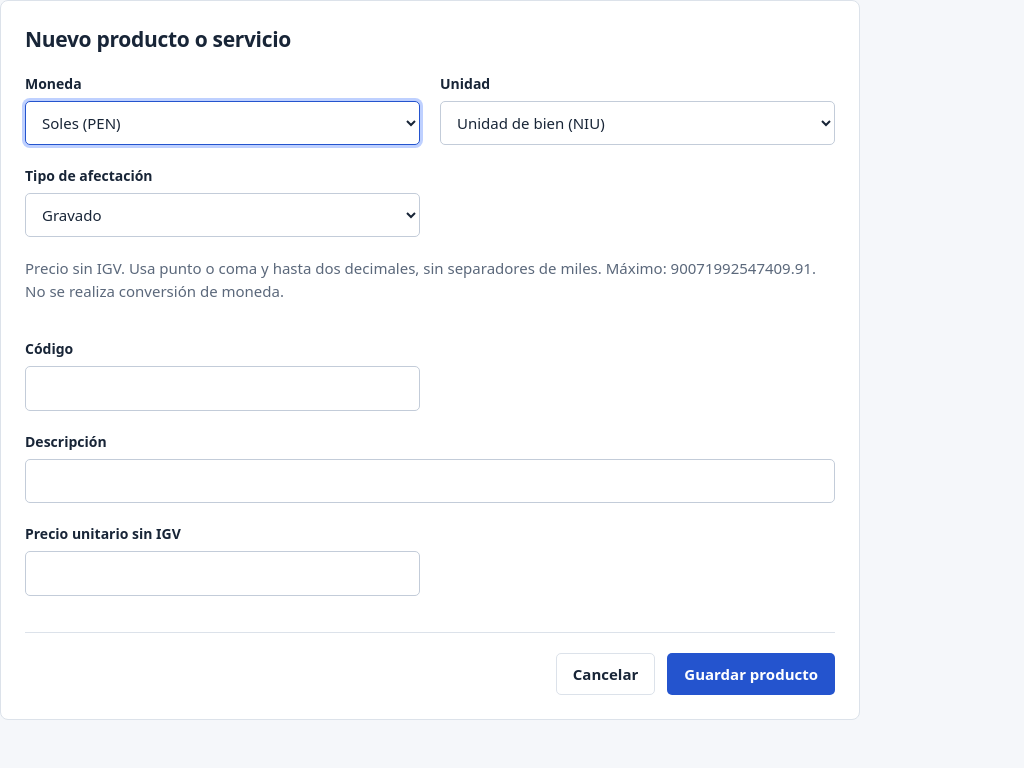
it: formulario de productos › muestra errores por campo y conserva los valores
The width and height of the screenshot is (1024, 768).
In the field labelled "Precio unitario sin IGV": (222,574) top-left (25, 551), bottom-right (420, 596), type "10,50"
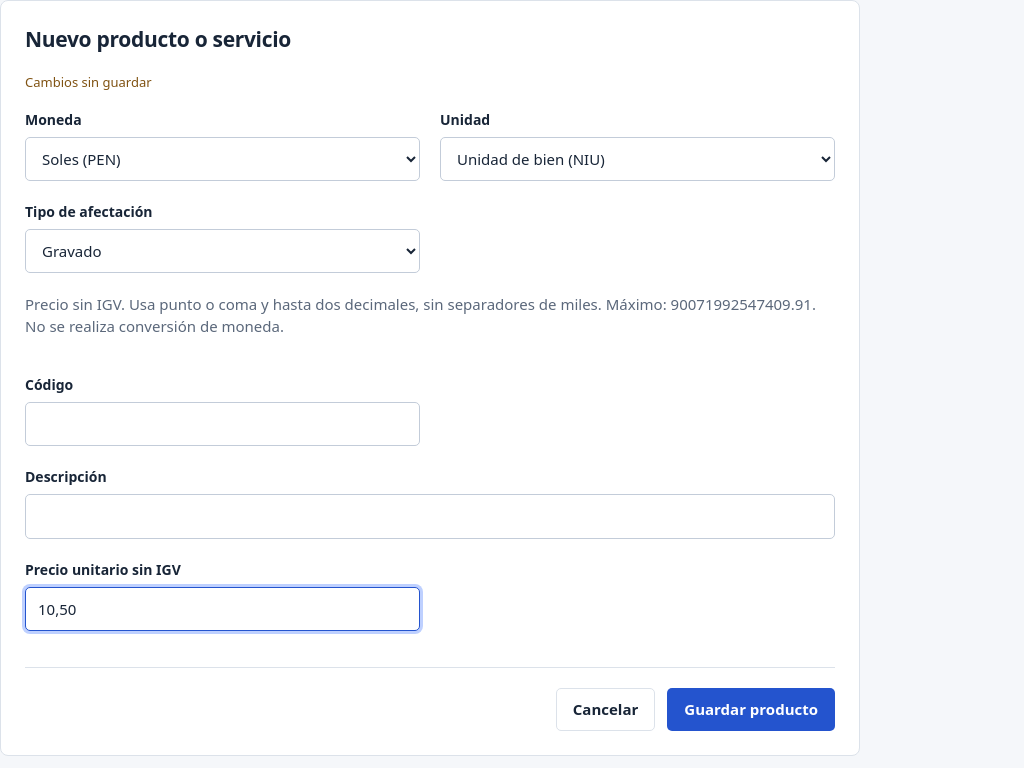
In the field labelled "Código": (222,424) top-left (25, 402), bottom-right (420, 446), type "00123456"
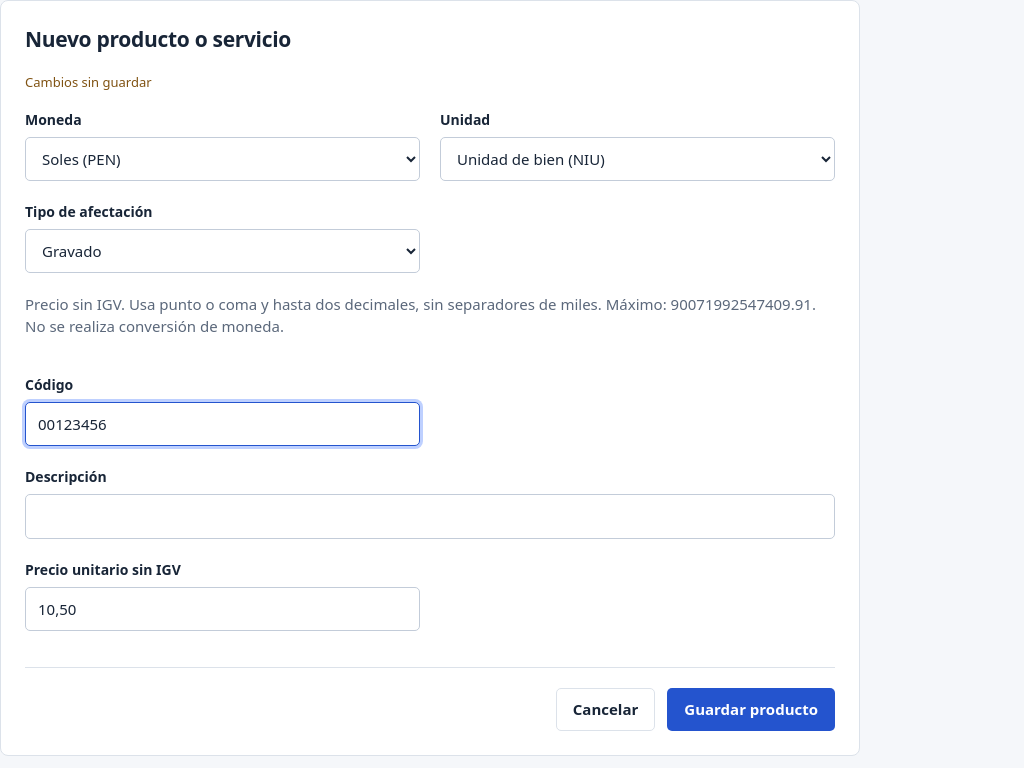
In the field labelled "Descripción": (430,517) top-left (25, 494), bottom-right (835, 539), type "Ana"
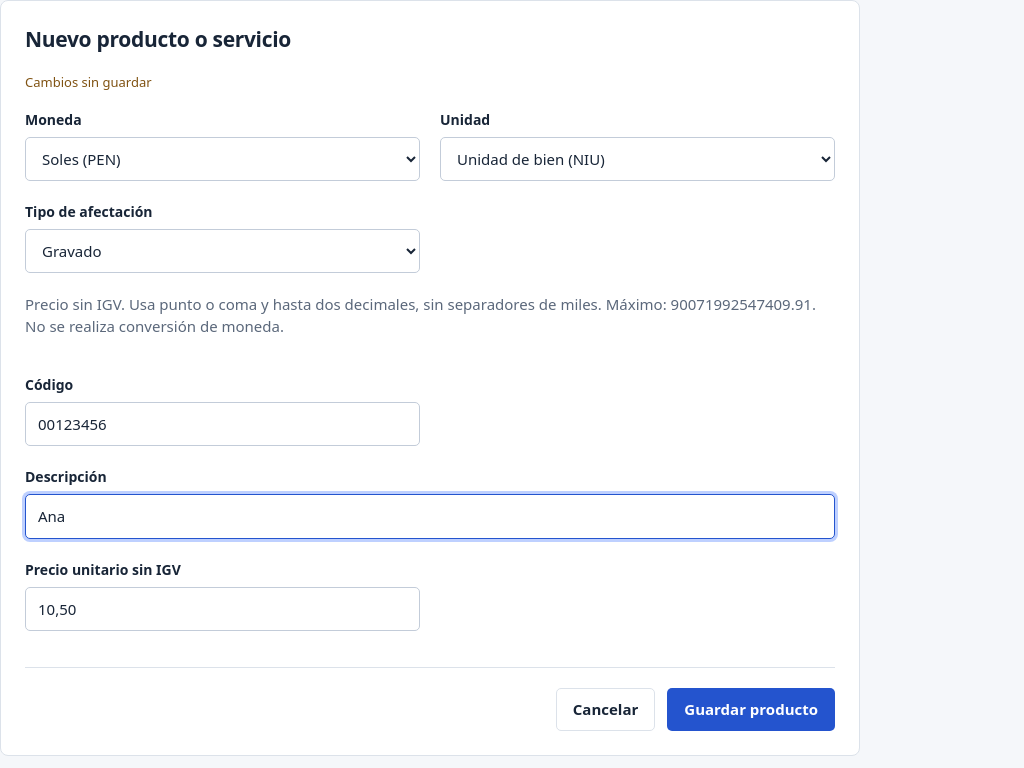
Click the button "Guardar producto": (751,710) top-left (667, 688), bottom-right (835, 731)
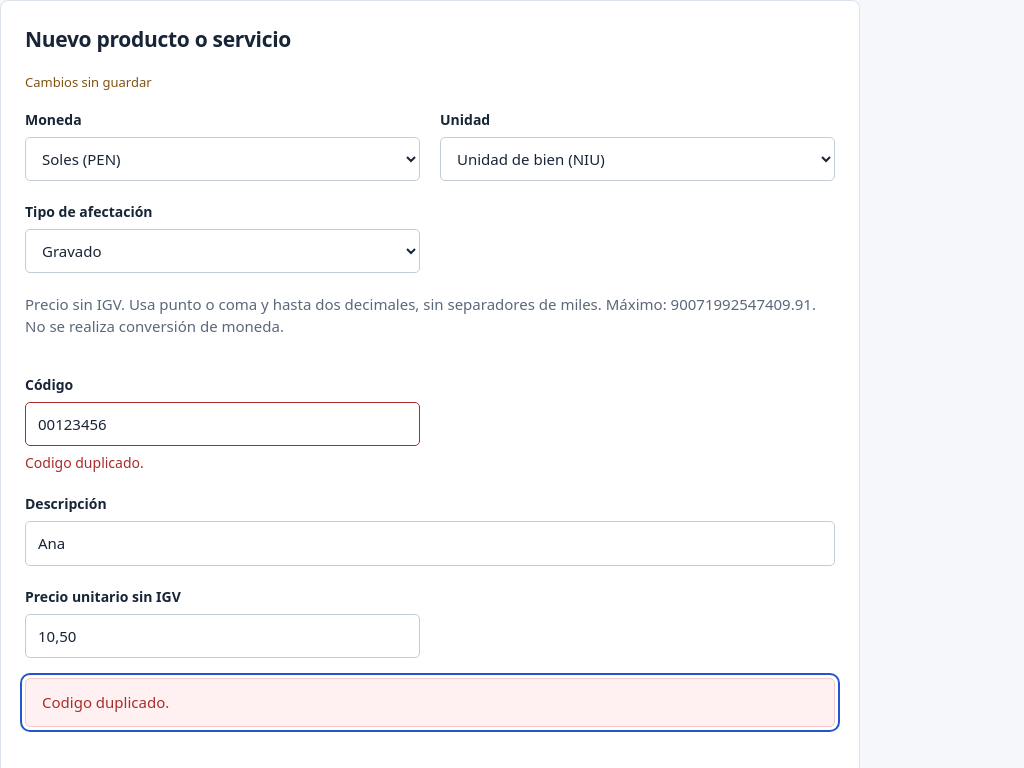
Check: the message "Codigo duplicado." is shown, box top-left (25, 678), bottom-right (835, 727)
